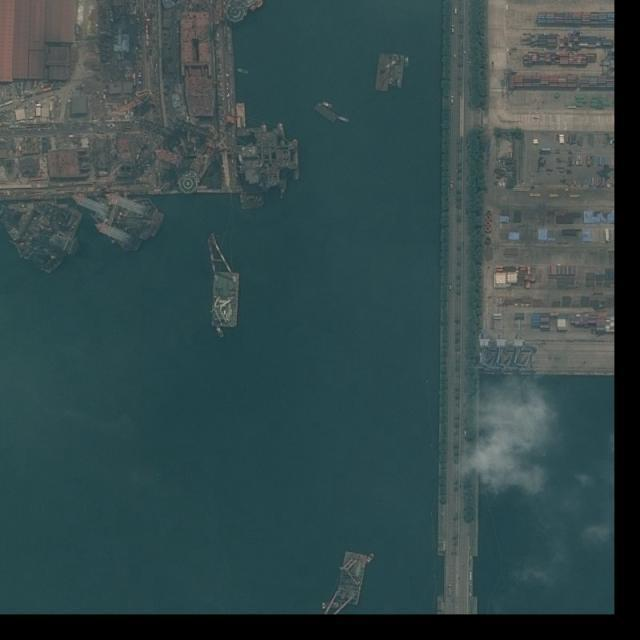ship: (374, 52, 391, 92), (390, 54, 406, 90), (313, 102, 338, 124), (320, 601, 343, 610), (215, 325, 225, 339), (321, 100, 334, 110), (365, 553, 376, 564), (338, 115, 350, 124), (237, 67, 250, 75), (405, 55, 410, 69)
